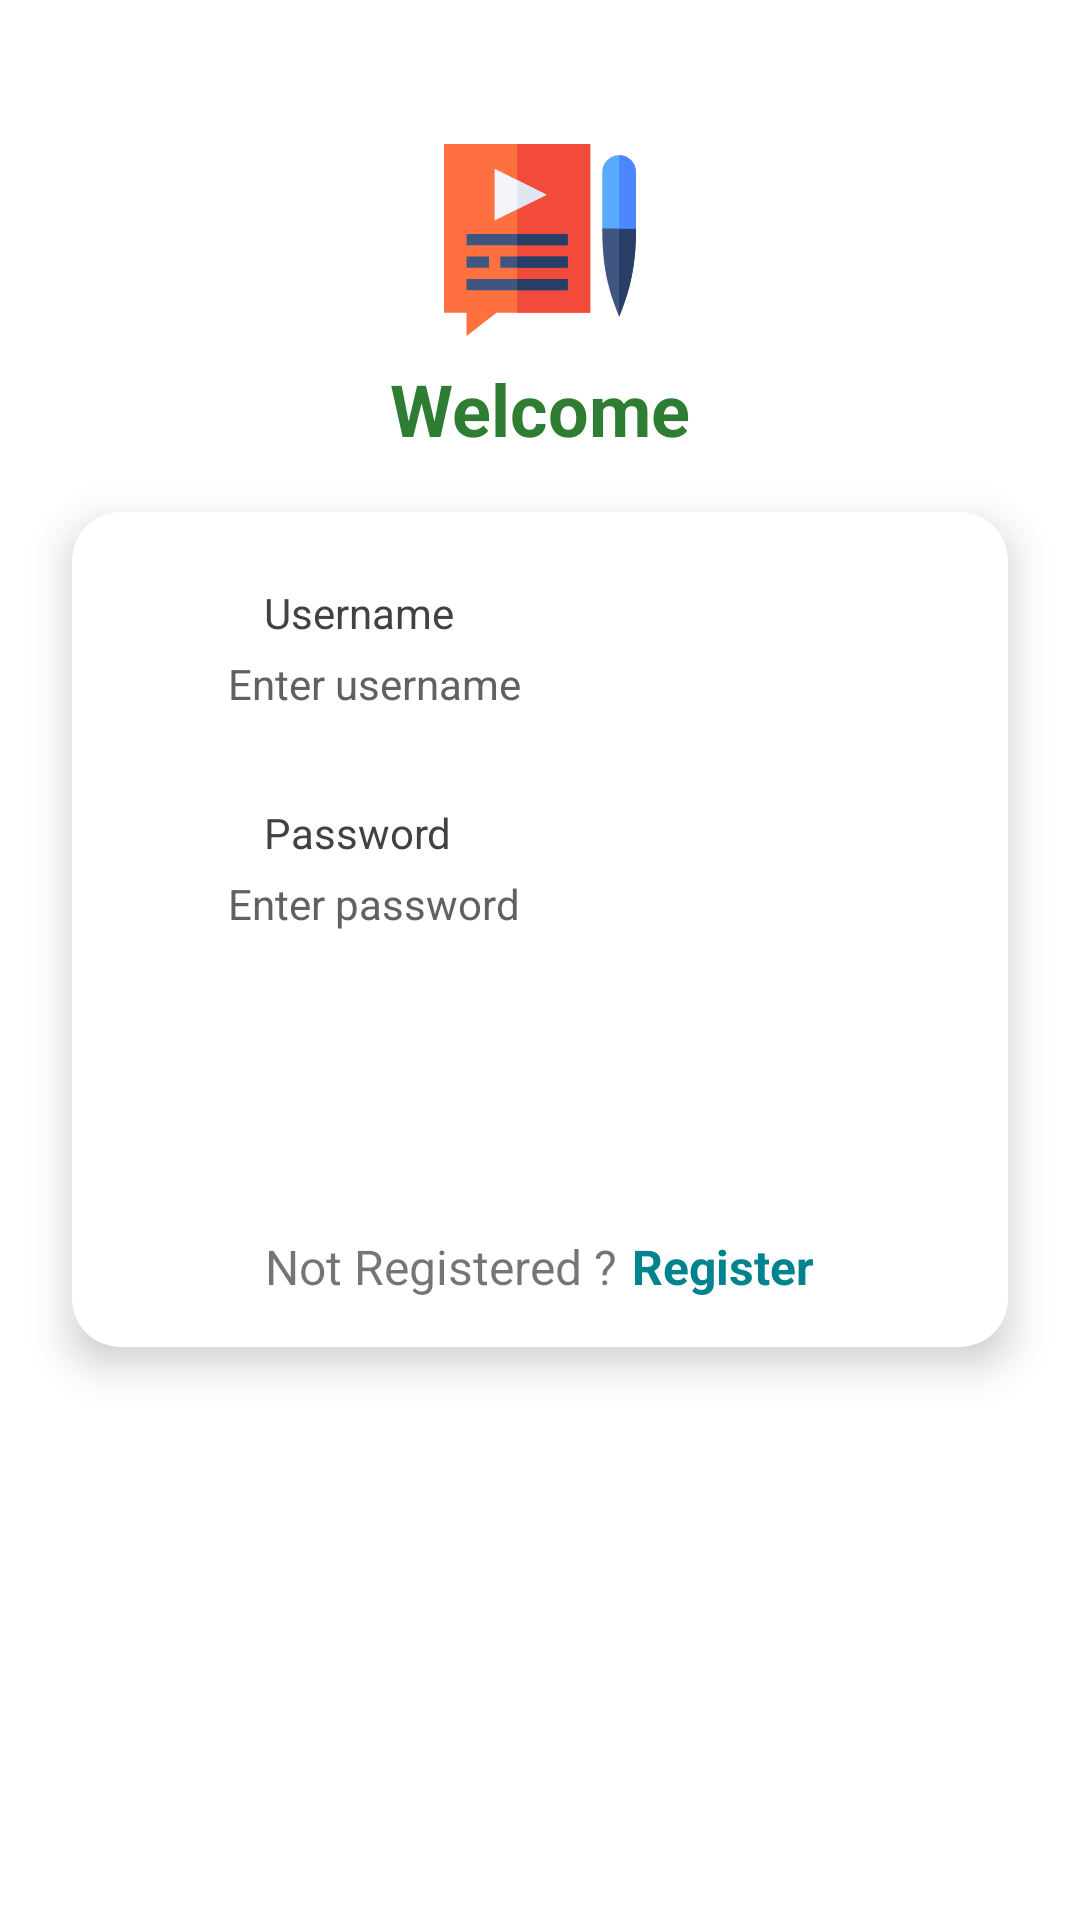

Named icons in this screenshot (1080 x 1920) and their bounding boxes, (x1, y1, x2, y2):
demo: (444, 144, 636, 336)
